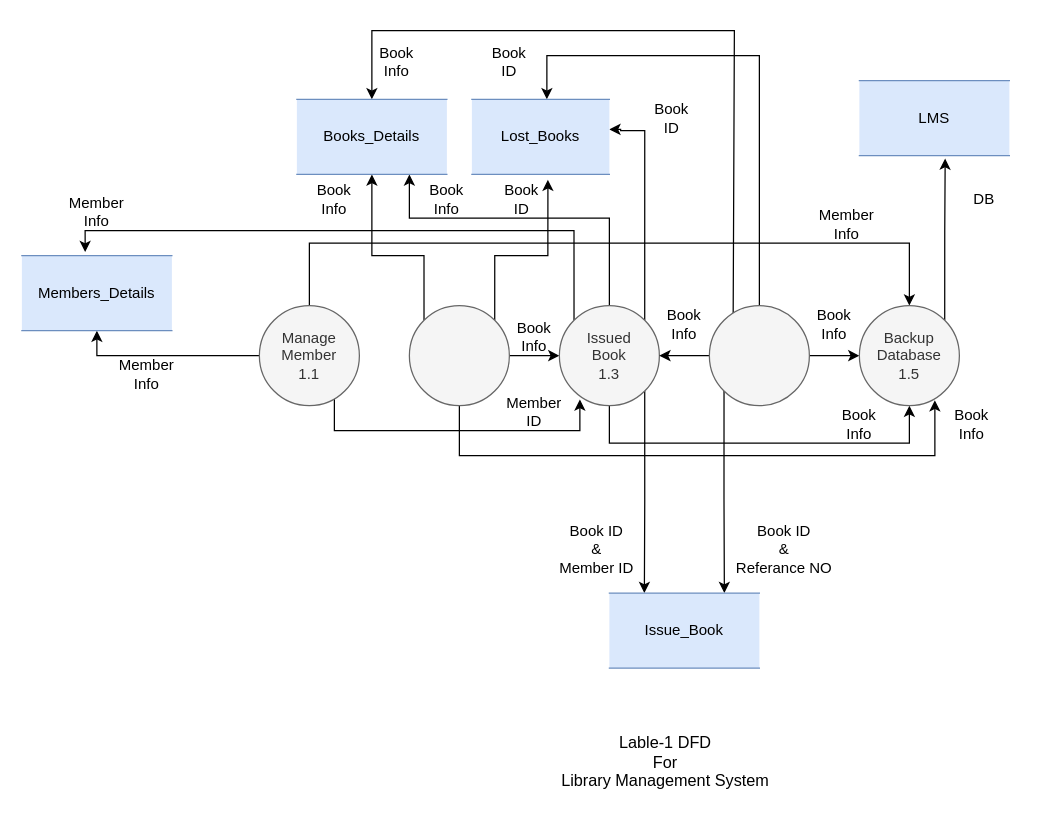
The diagram is 1044 pixels wide and 828 high, and some of its shapes have lost their labels. The centre of each missing label's shape, as x and y in pixels:
"Manage Book 1.2" goes at point (458, 355).
"Return Book 1.4" goes at point (758, 355).
